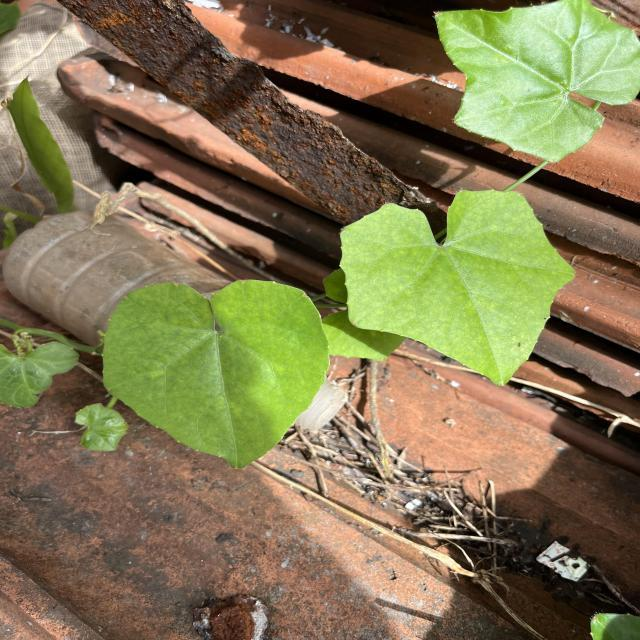Coccinia grandis: (337, 190, 579, 388), (99, 278, 331, 470)
